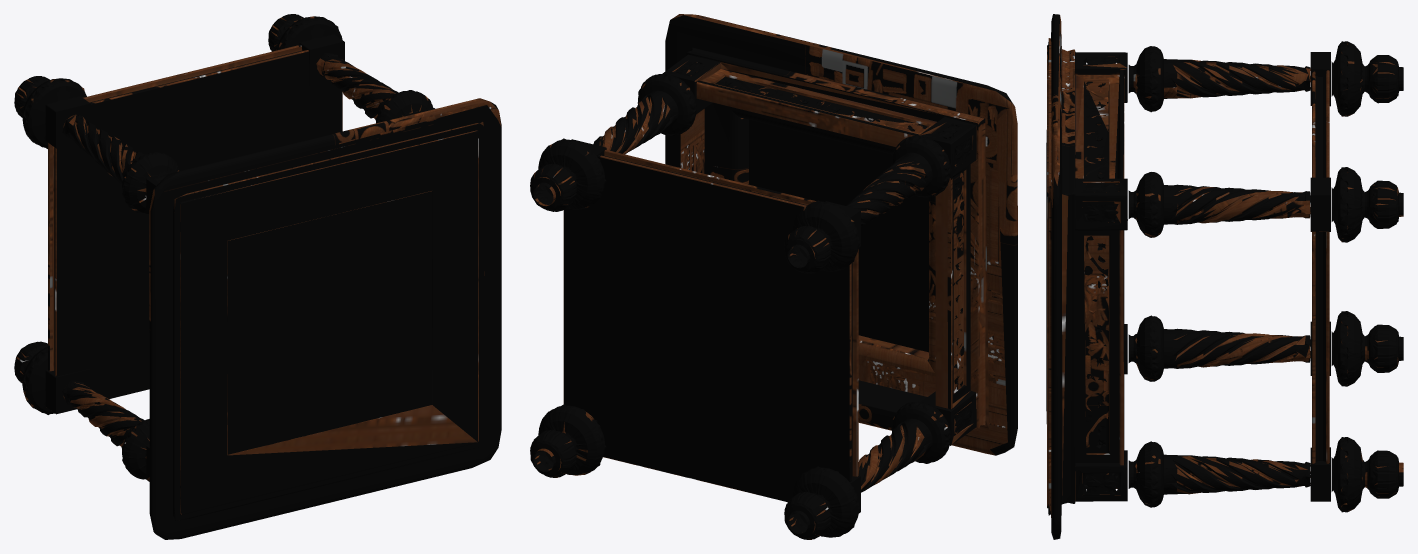
3 renders of one model, left to right at view 1: azimuth 30°, elevation 25°; view 2: azimuth 150°, elevation 25°; view 3: azimuth 270°, elevation 25°, orthographic.
Size of the model in its own units: 0.682 by 0.6823 by 0.5918.
